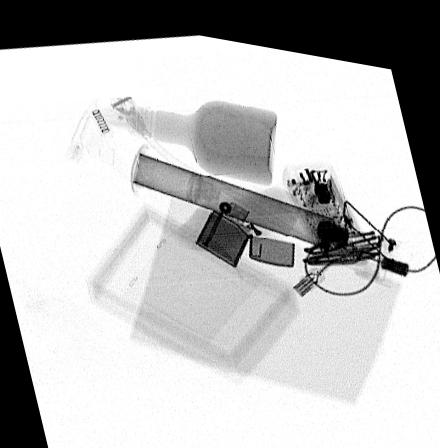Lighter: (193, 191, 294, 258)
